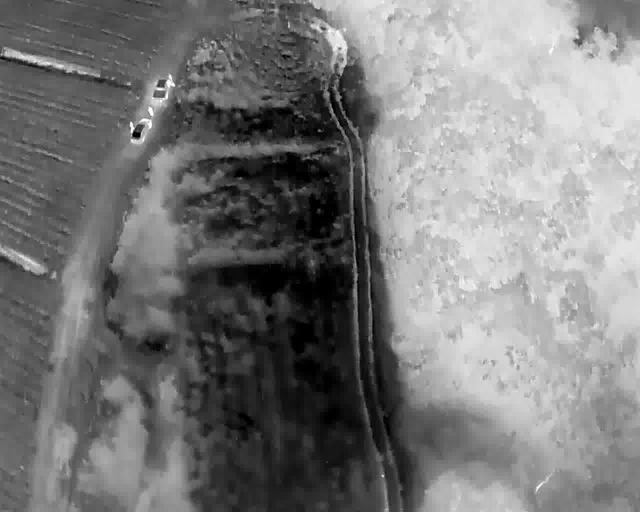car: (130, 118, 152, 144), (151, 79, 175, 99)
person: (147, 106, 153, 117), (168, 72, 172, 83), (129, 121, 133, 132)
